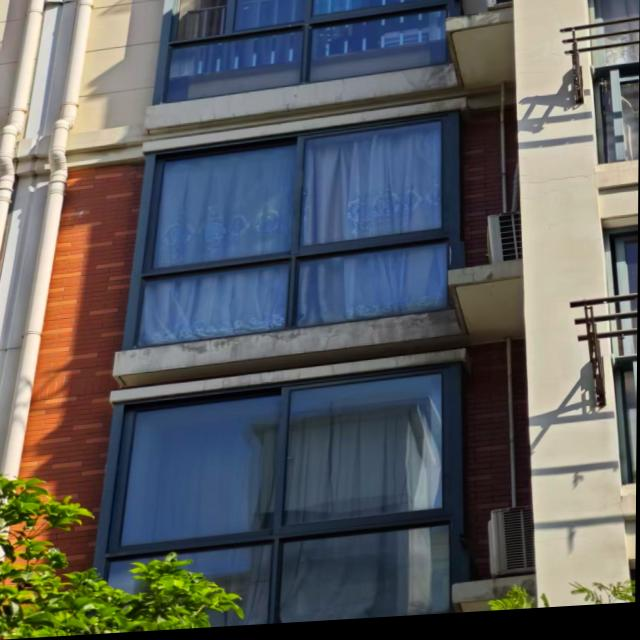mildew: (121, 310, 457, 368)
